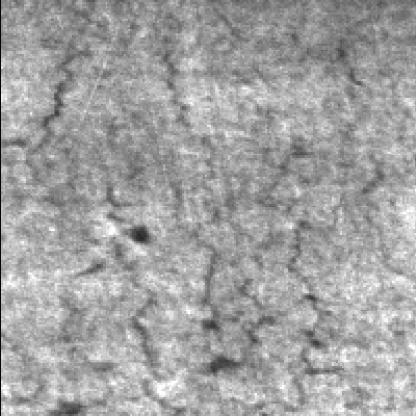crazing: (164, 140, 322, 416), (52, 144, 181, 416), (282, 46, 376, 416), (16, 2, 122, 248)
